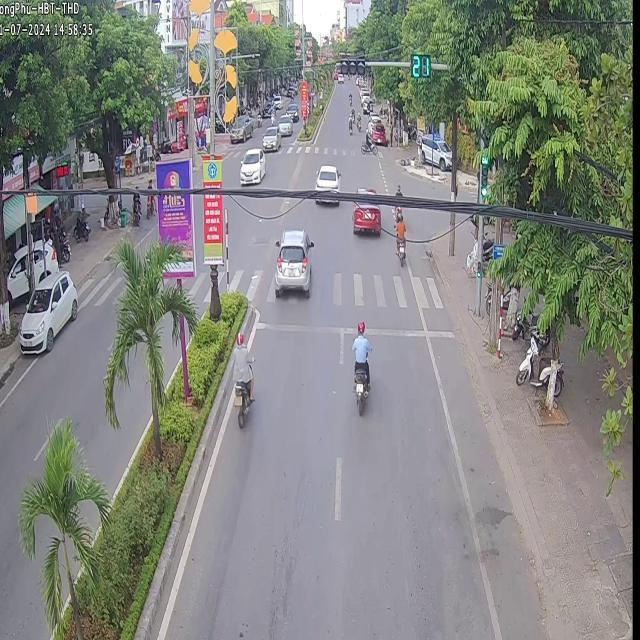car: (273, 227, 312, 296), (238, 147, 264, 185), (350, 200, 379, 234), (314, 162, 338, 189), (260, 125, 279, 151), (357, 187, 374, 192)
green_light: (477, 151, 488, 199), (338, 56, 364, 74)
motobike: (229, 334, 252, 427), (350, 320, 369, 414), (393, 214, 404, 265), (359, 131, 376, 152)
stop_line: (253, 319, 454, 337)
